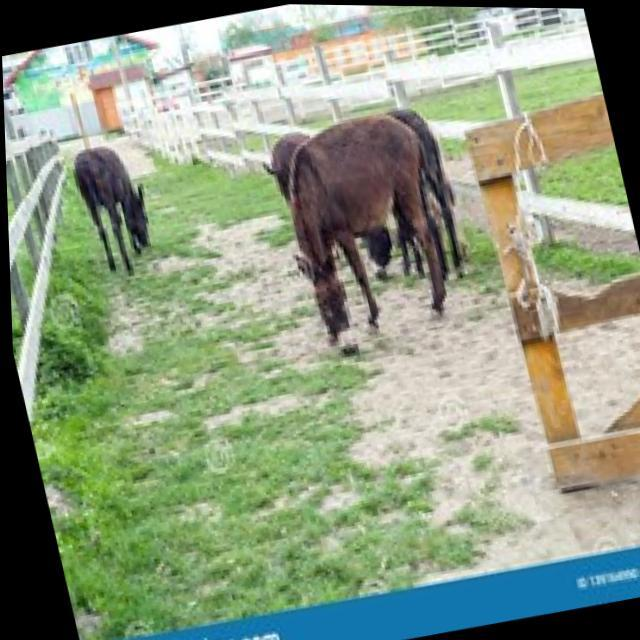Donkey: (260, 102, 464, 358), (252, 114, 398, 294), (364, 100, 469, 288), (64, 137, 157, 280)
